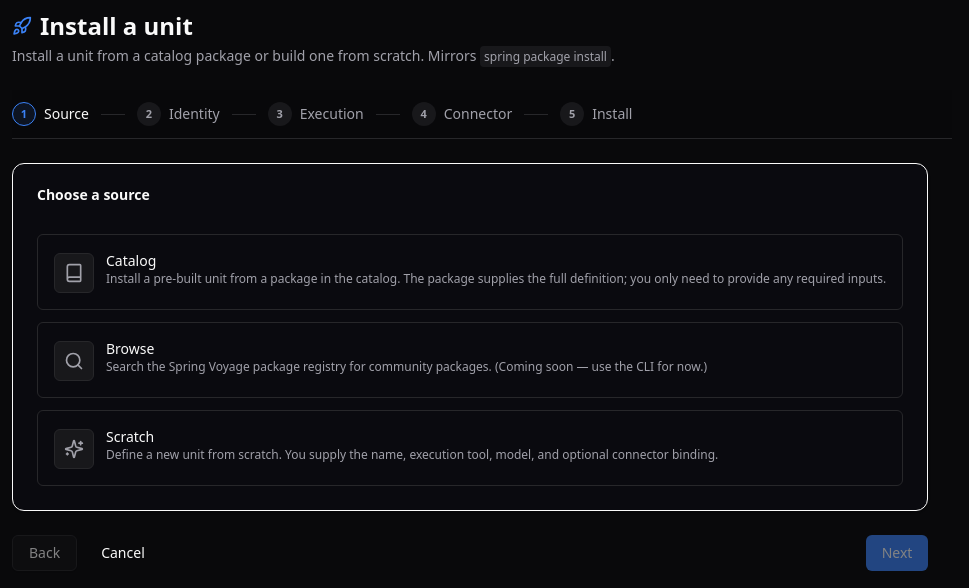
Test: CreateUnitPage — step 1: Source selection (#1563) › shows a browse Coming Soon stub when Browse is selected and Next is clicked
Click the button with test id "source-card-browse": [470, 360] box [37,322,903,398]
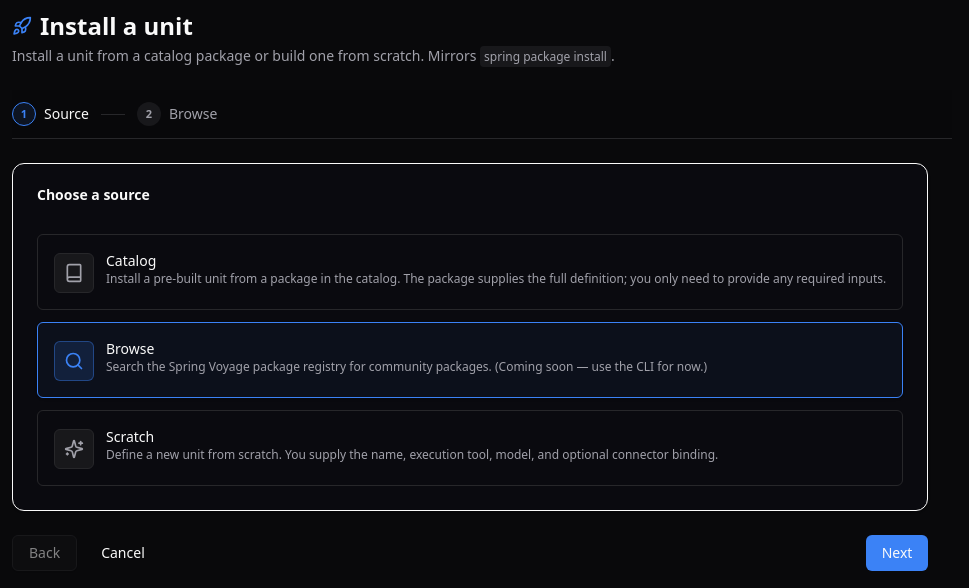
Click the button "Next": [897, 553] box [866,535,928,571]
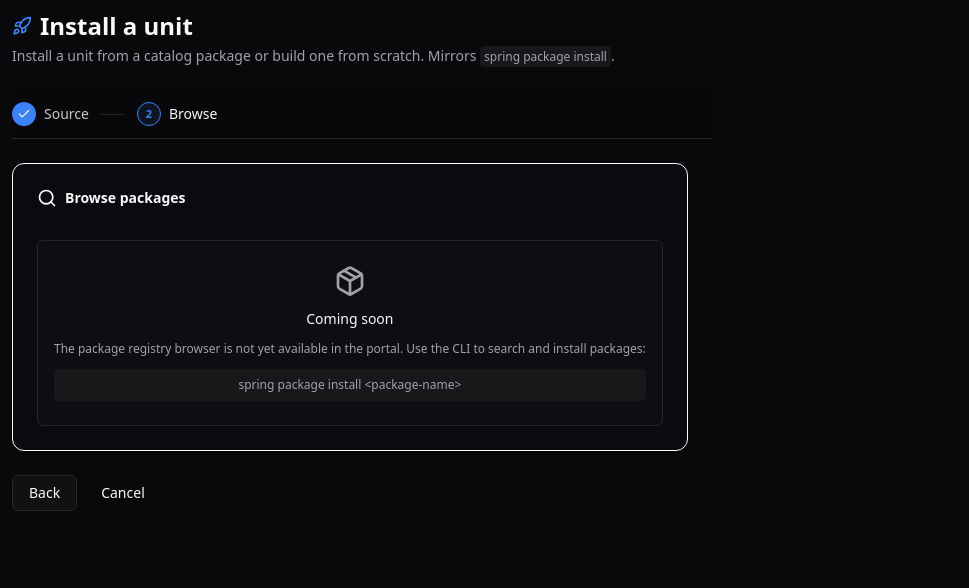
Expected: the element with test id "browse-coming-soon" is shown, [37,240,663,426]
Expected: the button "Next" is gone
